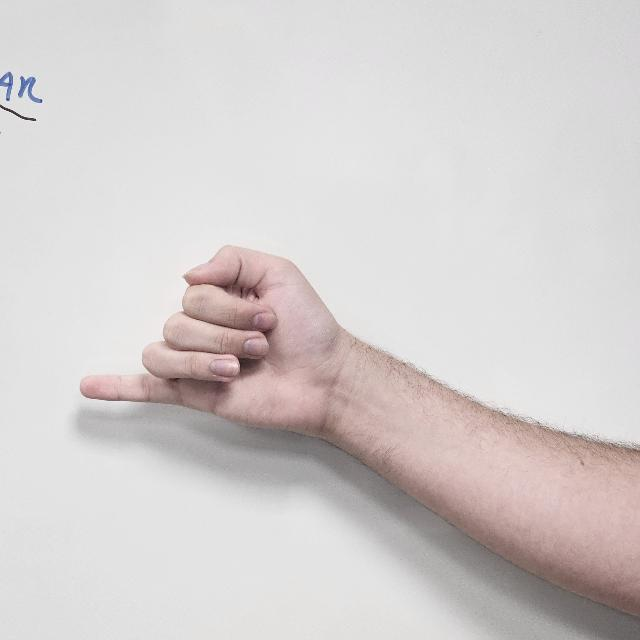Esquerda: (70, 199, 344, 473)
